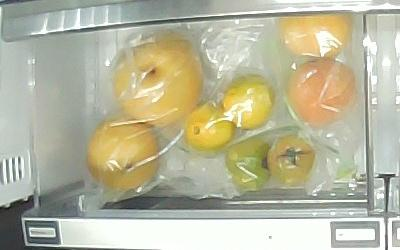peach_vinyl: (288, 59, 357, 126), (278, 13, 353, 59)
pear_vinyl: (112, 35, 204, 129), (86, 116, 159, 193)
tangerine_vinyl: (222, 75, 273, 131), (184, 103, 235, 154)
tomato_vinyl: (267, 136, 315, 186), (225, 140, 271, 190)
